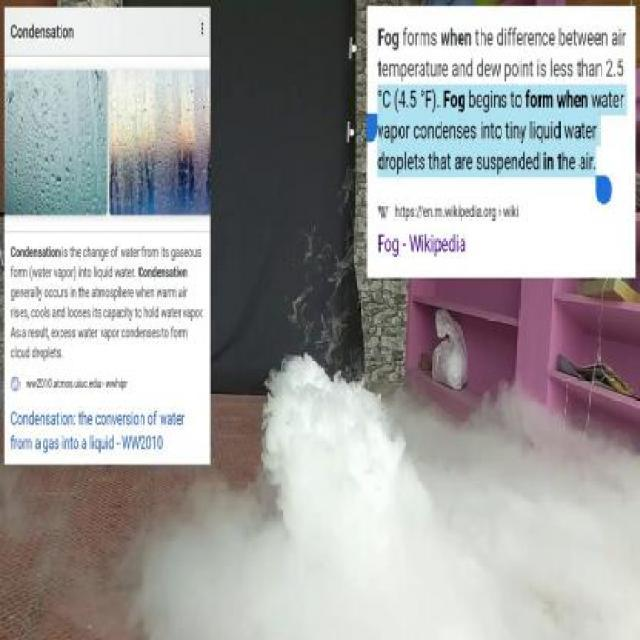smoke: (257, 352, 640, 640), (156, 486, 342, 640), (288, 228, 357, 370)
